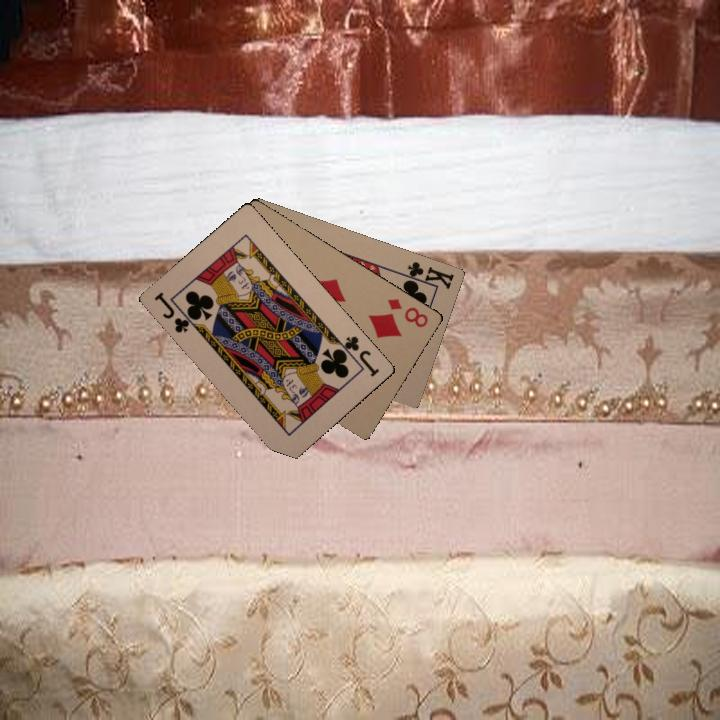8d: (383, 294, 431, 330)
Jc: (150, 288, 199, 336), (334, 332, 382, 379)
Kc: (398, 257, 457, 292)
